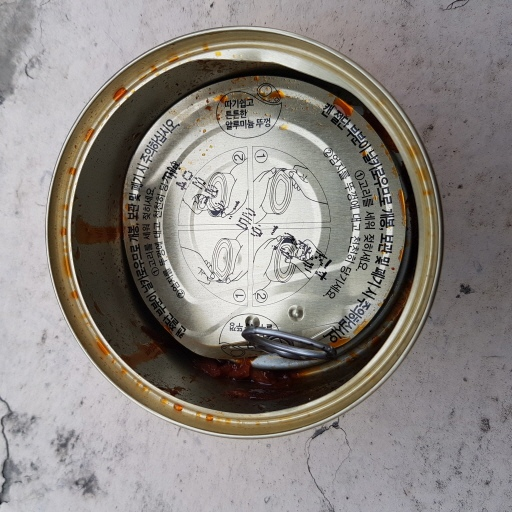Metal_1: (54, 25, 444, 441)
